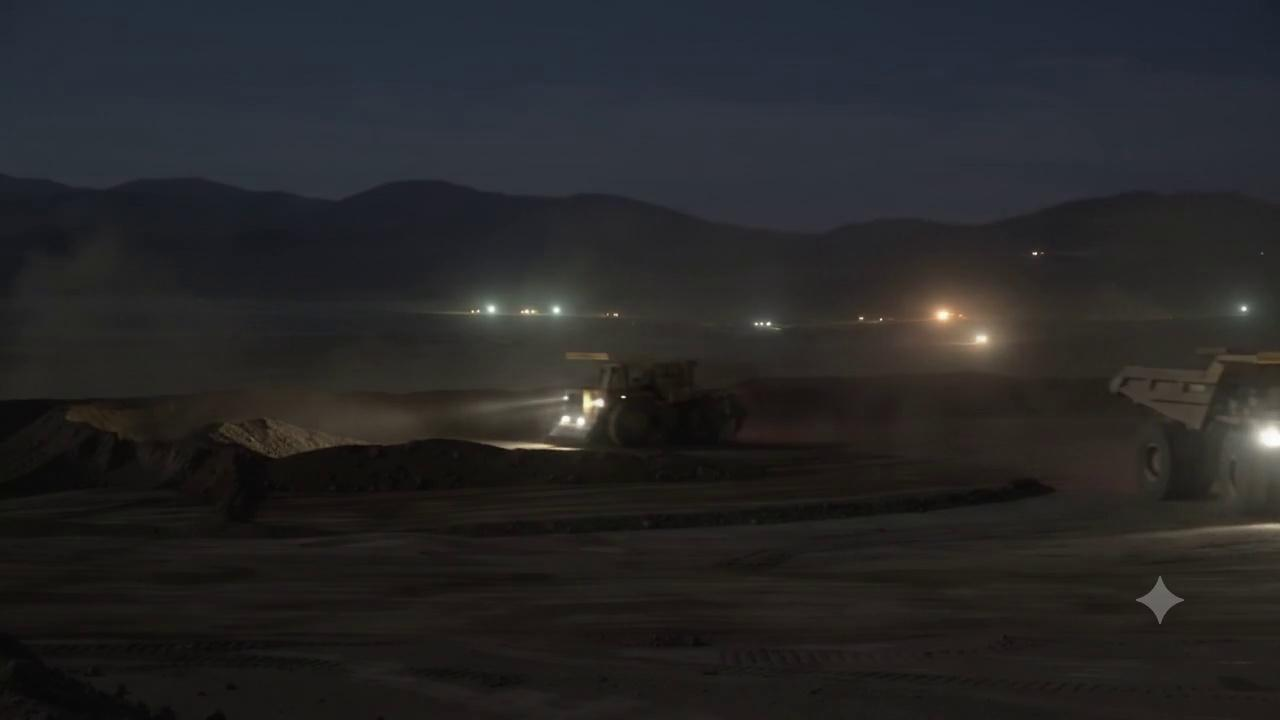CAEX: (1108, 352, 1280, 504)
